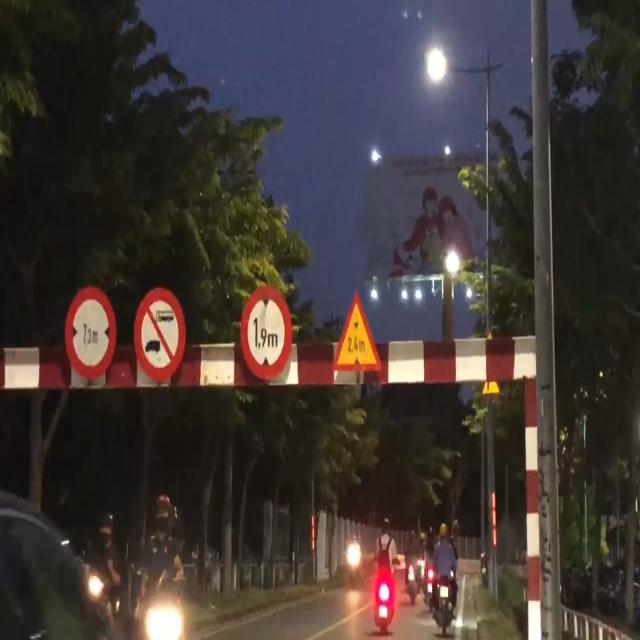Bien bao cam xe oto khach va xe oto tai: (131, 277, 186, 383)
Bien bao chieu cao tinh khong thuc te: (330, 282, 384, 387)
Bien bao han che chieu cao: (234, 282, 296, 389)
